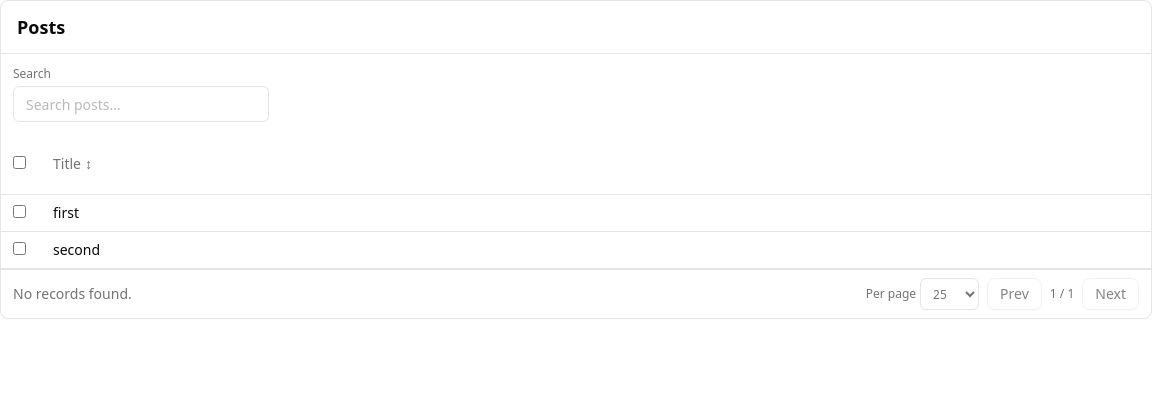
Test case: ArqelIndexPage — bulk actions render after selection › shows bulk action button only after a row is selected
Expected: the button "delete selected" is not shown
Click the checkbox named "select row": (20, 212) [13,205,26,218]
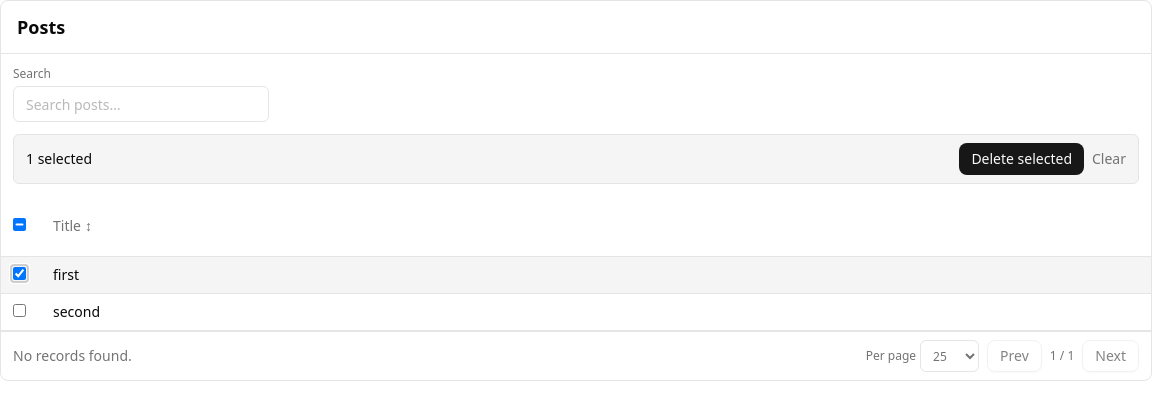
Result: the button "Delete selected" is shown at [959,143,1084,175]
